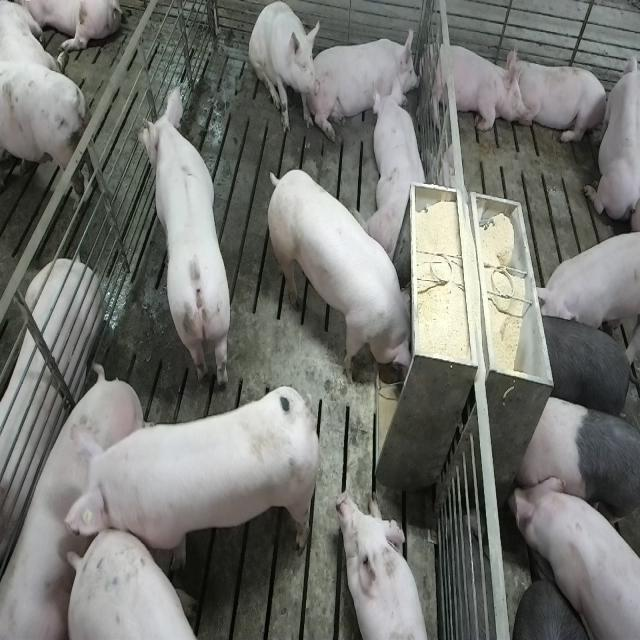Feeding: (272, 168, 422, 390)
Lateral_lying: (0, 368, 151, 640), (0, 255, 102, 609)
Sitting: (249, 2, 321, 137)
Standing: (65, 376, 320, 568), (136, 90, 234, 398), (508, 470, 638, 640), (512, 394, 638, 562), (64, 522, 225, 638), (0, 66, 97, 222), (532, 230, 636, 336), (535, 311, 637, 418)
Sternal_lying: (337, 491, 433, 640), (314, 27, 422, 134), (367, 81, 430, 263), (584, 42, 637, 227), (425, 37, 525, 135), (512, 52, 610, 148)
